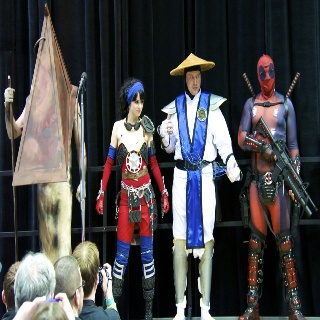rifle: (254, 115, 318, 218)
